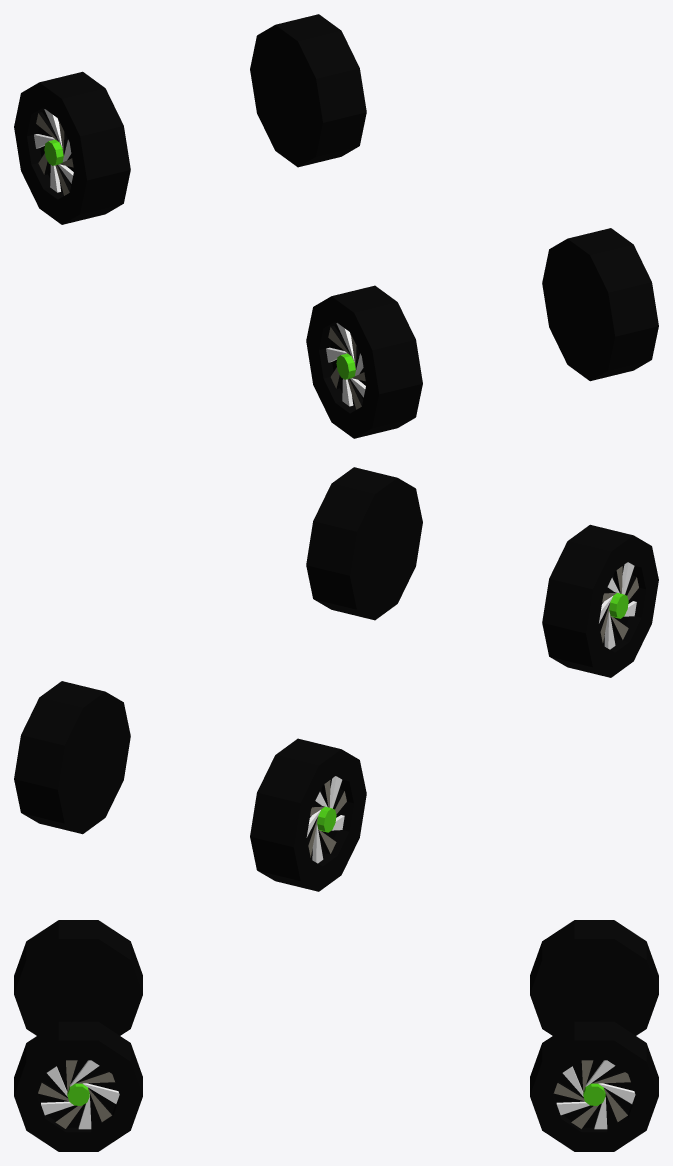
Rendered from TaxiUpgradedWheel.fbx.
3 renders of one model, top to bottom at view 1: azimuth 30°, elevation 25°; view 2: azimuth 150°, elevation 25°; view 3: azimuth 270°, elevation 25°, orthographic. The views are drawn at different scales.
Parts seen in each view (by area): view 1: NewRims; view 2: NewRims; view 3: NewRims.
Part boxes in pixels (x1,y1,x2,y2): NewRims: (14,14,658,438); NewRims: (14,467,658,891); NewRims: (14,920,658,1151).
Bounding box in the file's own units: 186 × 80.34 × 422.
